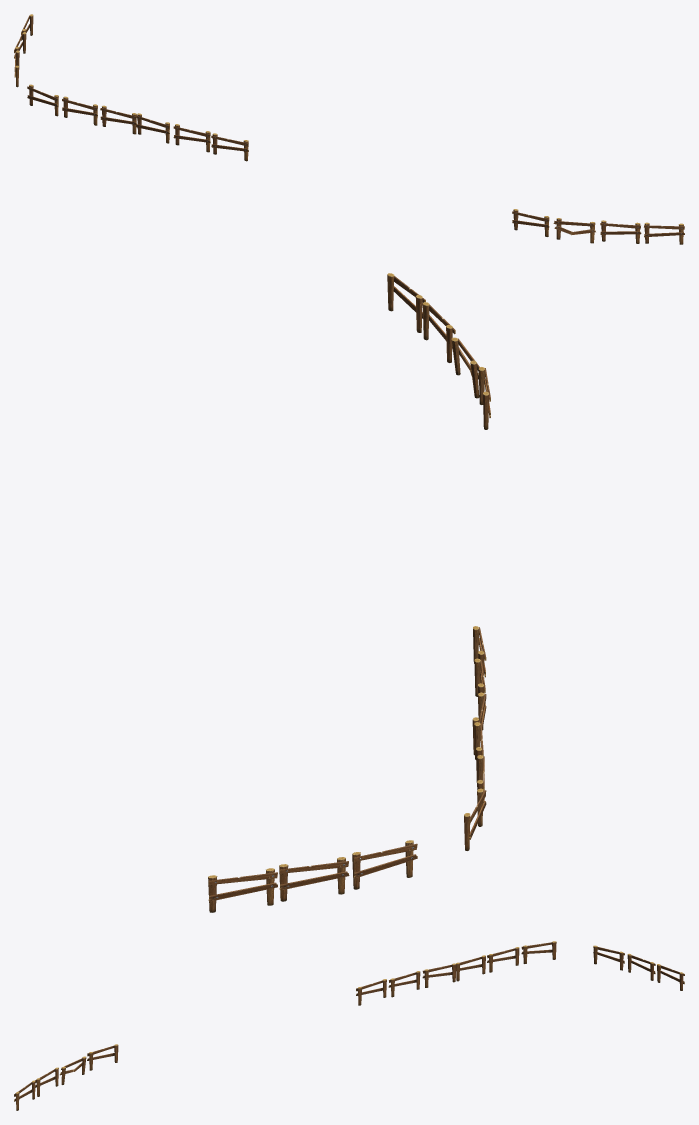
File: Area_07_18.fbx
3 views of the same model, one above another, from view 1: azimuth 30°, elevation 25°; view 2: azimuth 150°, elevation 25°; view 3: azimuth 270°, elevation 25° (orthographic). The views are drawn at different scales.
Visible parts, largest first — view 1: Area_07_18; view 2: Area_07_18; view 3: Area_07_18.
Part boxes in pixels (left/top/right/bottom): Area_07_18: left=14, top=14, right=684, bottom=244; Area_07_18: left=208, top=273, right=490, bottom=912; Area_07_18: left=14, top=941, right=684, bottom=1110.
Size of the model in its own units: 2574 by 163 by 4811.
